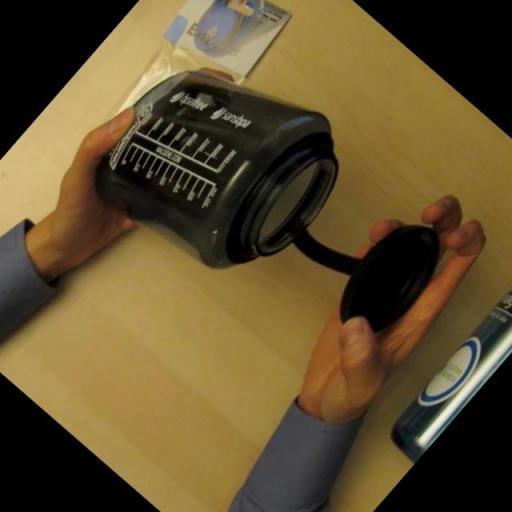bottle: (74, 18, 370, 312)
